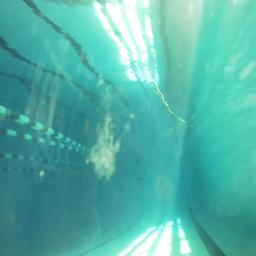Full: (136, 174, 144, 182)
